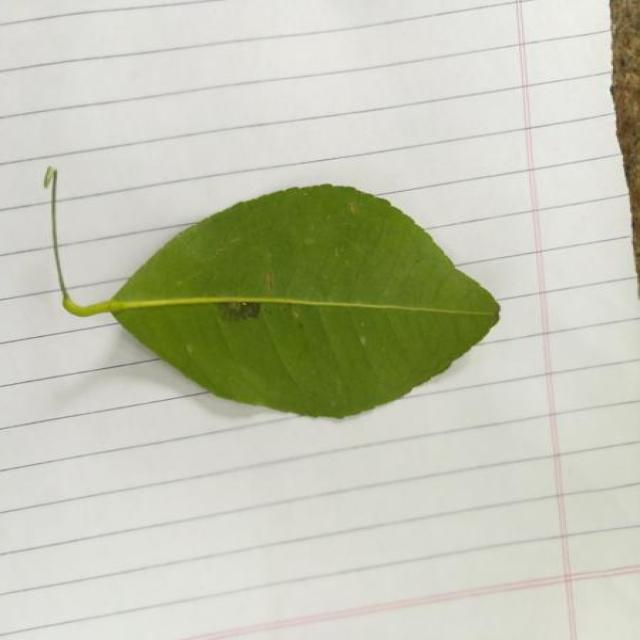citron lime: (88, 185, 500, 417), (0, 0, 188, 22)
